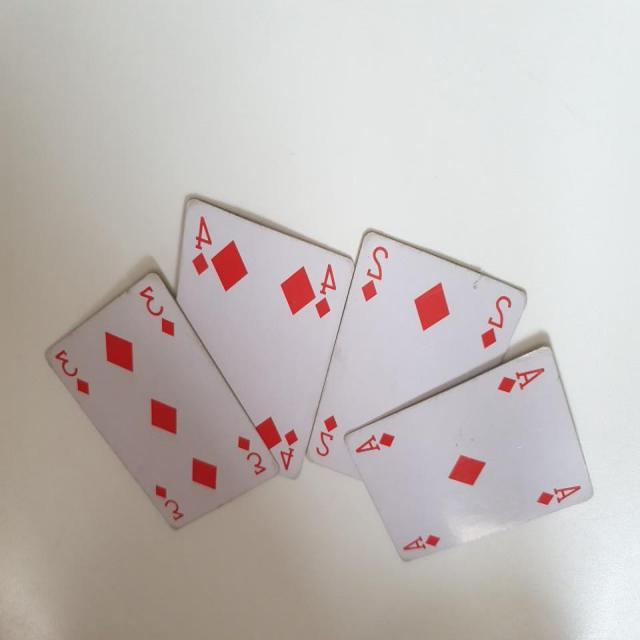2 of diamonds: (308, 229, 532, 474)
3 of diamonds: (44, 269, 290, 538)
4 of diamonds: (168, 194, 358, 483)
ace of diamonds: (347, 335, 592, 568)
